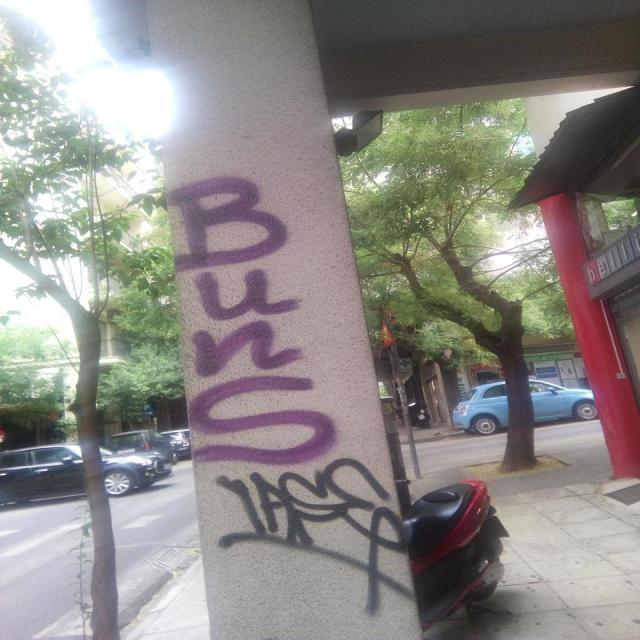nonspitting: (170, 176, 340, 461), (217, 457, 410, 619)
